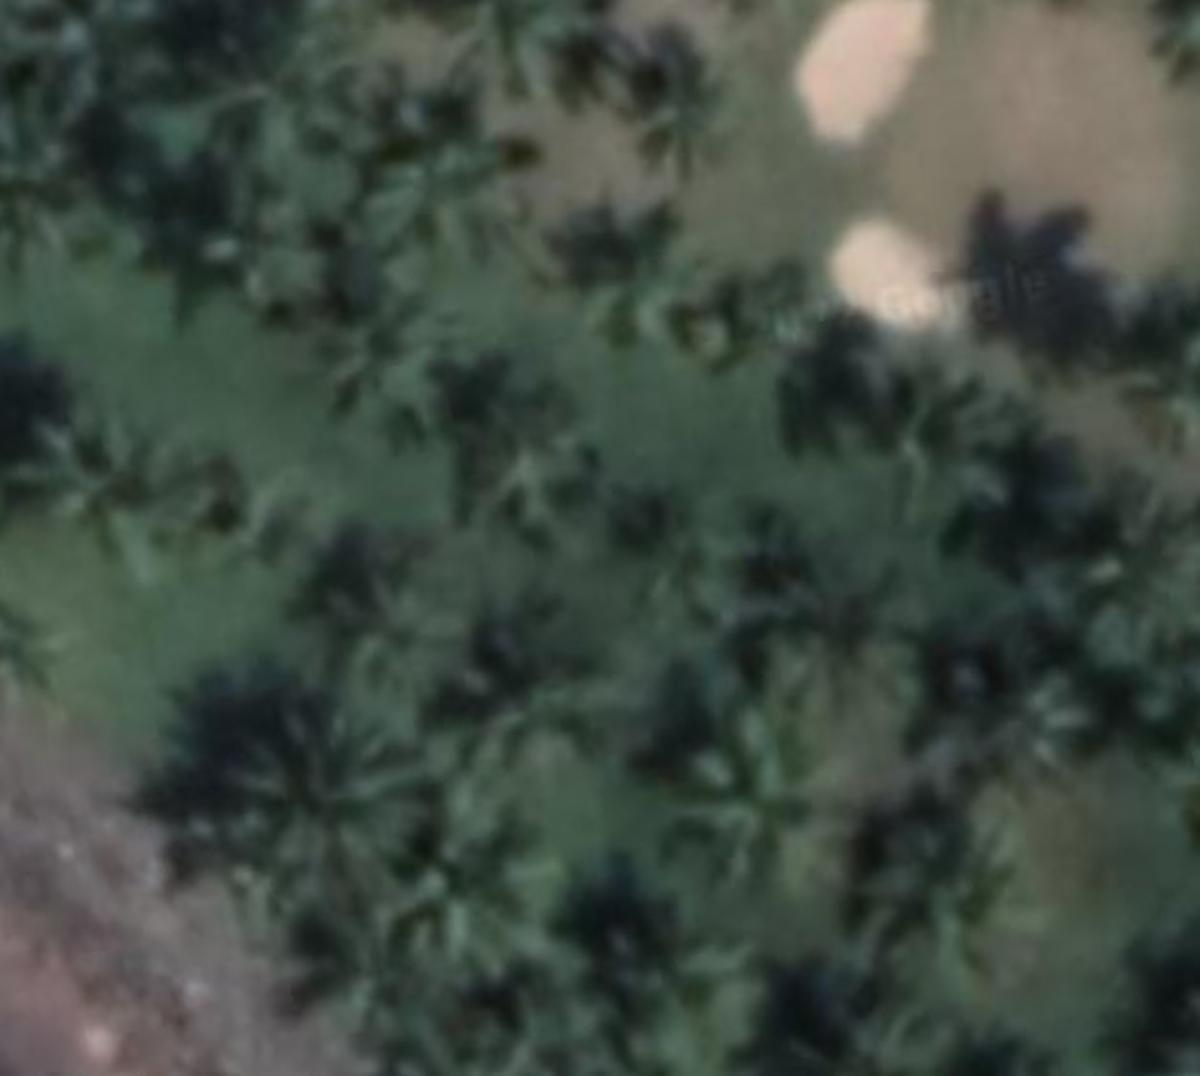coconut: (223, 712, 426, 924), (847, 793, 1043, 964), (352, 105, 537, 279), (675, 717, 828, 888), (417, 793, 585, 945), (865, 358, 1010, 530), (606, 924, 780, 1066), (32, 409, 189, 560), (465, 606, 614, 763), (329, 285, 478, 440), (1062, 478, 1186, 660), (323, 557, 459, 723), (449, 409, 612, 543), (568, 210, 721, 352), (459, 1, 625, 126), (210, 449, 365, 580), (191, 172, 327, 308), (646, 38, 765, 179), (951, 654, 1096, 760), (629, 501, 748, 627), (1, 589, 99, 721)
